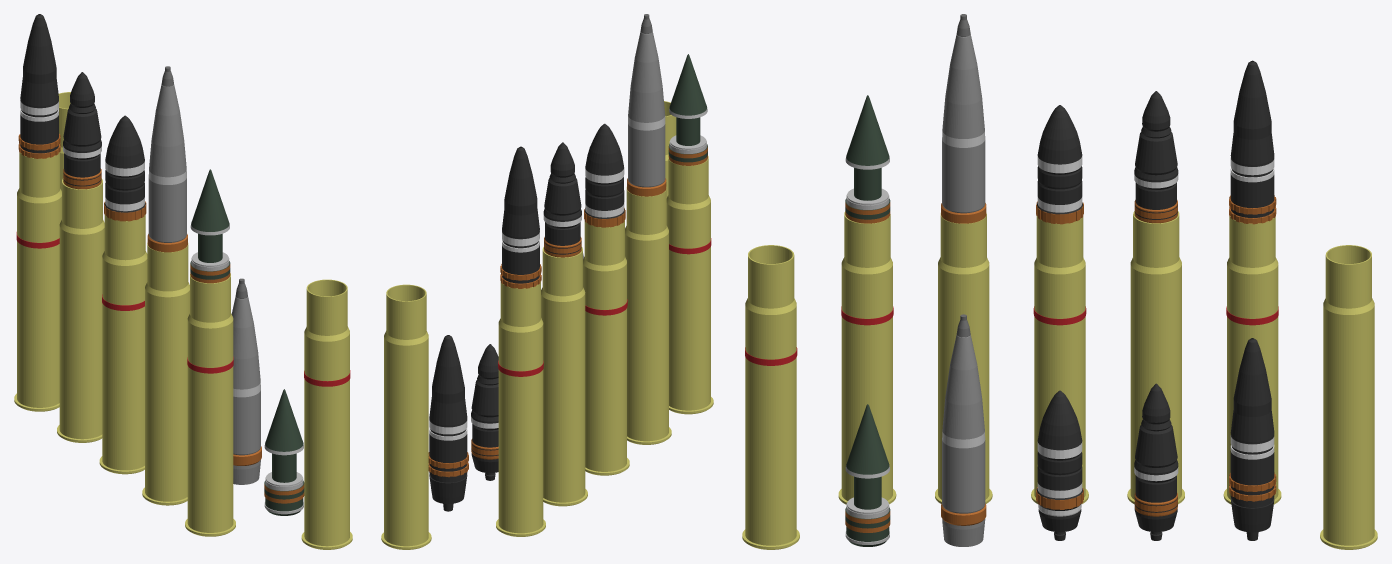
File: TankShells.fbx
3 renders of one model, left to right at view 1: azimuth 30°, elevation 25°; view 2: azimuth 150°, elevation 25°; view 3: azimuth 270°, elevation 25°, orthographic. The views are drawn at different scales.
Parts seen in each view (by area): view 1: Circle.003, Circle.015, Circle.007, Circle.011, Circle.013, Circle.009, Circle.014, Circle.004, Circle.010, Circle.012, Circle.008, Circle.005 (+2 smaller); view 2: Circle.002, Circle.009, Circle.007, Circle.015, Circle.013, Circle.011, Circle.014, Circle.006, Circle.010, Circle.012, Circle.008, Circle (+2 smaller); view 3: Circle.003, Circle.002, Circle.015, Circle.007, Circle.011, Circle.009, Circle.013, Circle.004, Circle.014, Circle.006, Circle.010, Circle.001 (+5 smaller).
Part boxes in pixels (x1=…): Circle.003: x1=301, y1=279, x2=352, y2=549; Circle.015: x1=185, y1=273, x2=235, y2=536; Circle.007: x1=57, y1=178, x2=104, y2=442; Circle.011: x1=99, y1=215, x2=147, y2=474; Circle.013: x1=142, y1=243, x2=189, y2=505; Circle.009: x1=14, y1=152, x2=61, y2=411; Circle.014: x1=147, y1=66, x2=187, y2=252; Circle.004: x1=231, y1=278, x2=261, y2=484; Circle.010: x1=18, y1=14, x2=60, y2=158; Circle.012: x1=104, y1=115, x2=146, y2=221; Circle.008: x1=63, y1=72, x2=101, y2=189; Circle.005: x1=264, y1=389, x2=304, y2=515; Circle.002: x1=381, y1=284, x2=431, y2=549; Circle.009: x1=496, y1=281, x2=545, y2=536; Circle.007: x1=541, y1=247, x2=587, y2=506; Circle.015: x1=666, y1=156, x2=713, y2=414; Circle.013: x1=625, y1=187, x2=671, y2=444; Circle.011: x1=583, y1=220, x2=629, y2=475; Circle.014: x1=627, y1=14, x2=666, y2=196; Circle.006: x1=428, y1=335, x2=468, y2=511; Circle.010: x1=500, y1=146, x2=541, y2=288; Circle.012: x1=584, y1=123, x2=625, y2=227; Circle.008: x1=543, y1=142, x2=581, y2=257; Circle: x1=471, y1=344, x2=498, y2=480; Circle.003: x1=742, y1=245, x2=799, y2=549; Circle.002: x1=1320, y1=245, x2=1377, y2=549; Circle.015: x1=838, y1=211, x2=896, y2=504; Circle.007: x1=1127, y1=211, x2=1184, y2=504; Circle.011: x1=1031, y1=216, x2=1088, y2=503; Circle.009: x1=1223, y1=216, x2=1281, y2=504; Circle.013: x1=935, y1=213, x2=992, y2=503; Circle.004: x1=941, y1=314, x2=986, y2=546; Circle.014: x1=941, y1=14, x2=986, y2=223; Circle.006: x1=1229, y1=338, x2=1276, y2=540; Circle.010: x1=1229, y1=60, x2=1276, y2=224; Circle.001: x1=1036, y1=390, x2=1083, y2=540.
Size of the model in its own units: 160 by 553 by 660.
